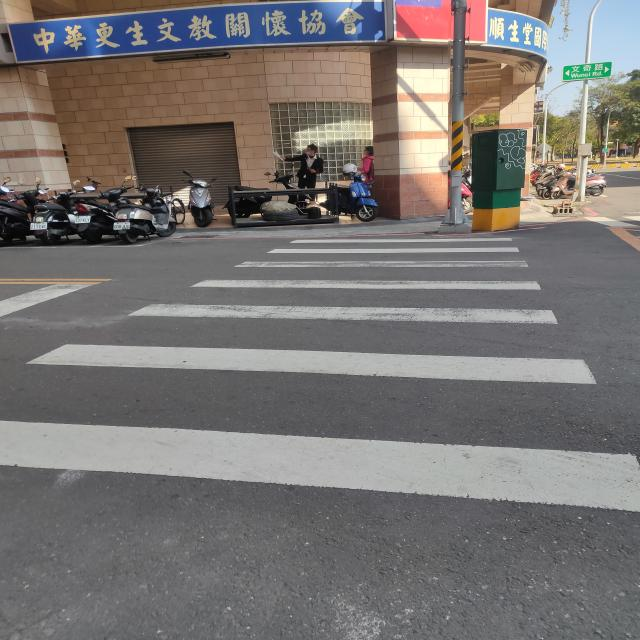zebra crossing: (0, 230, 640, 516)
